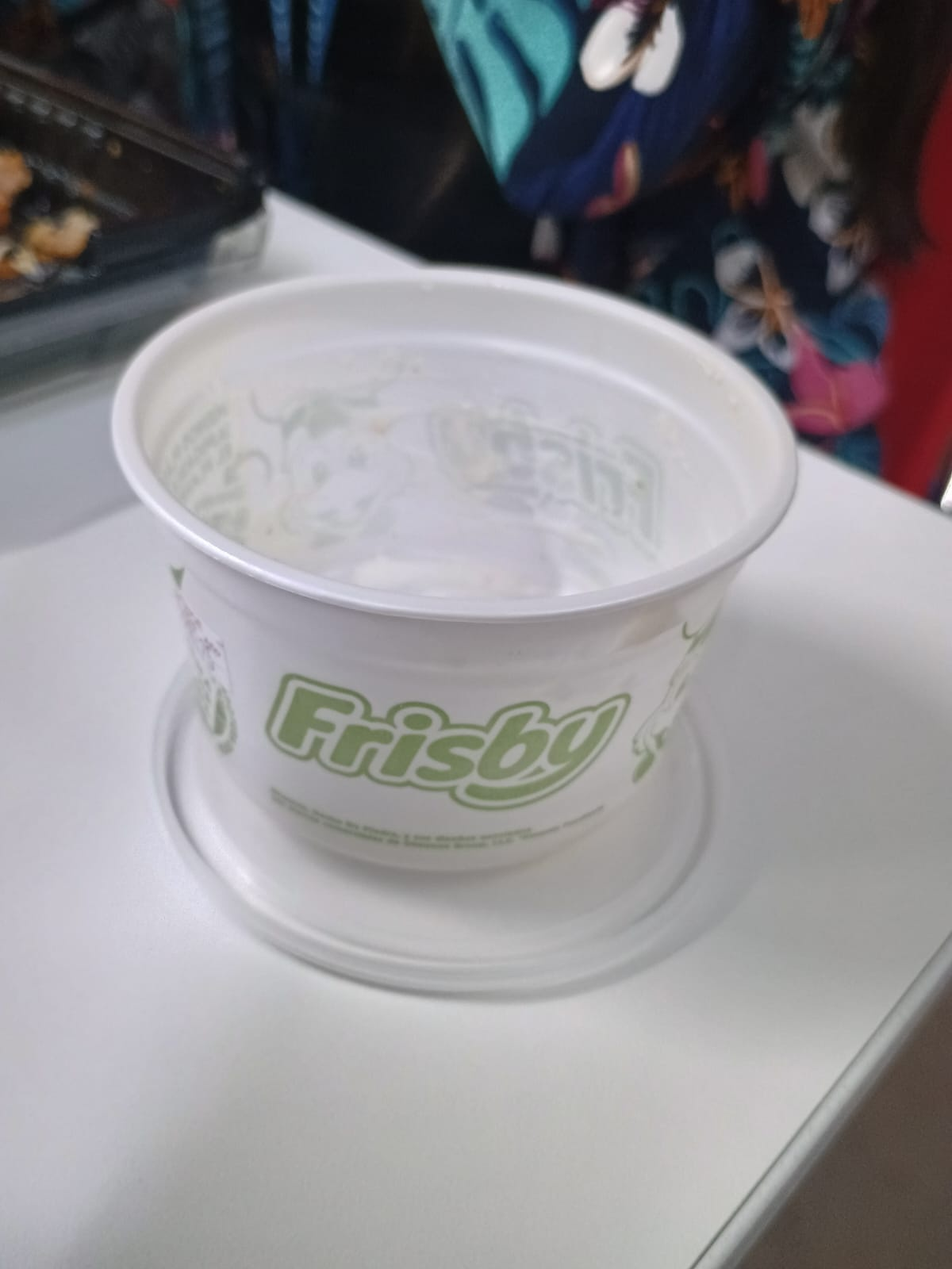Plastico: (115, 265, 798, 878)
